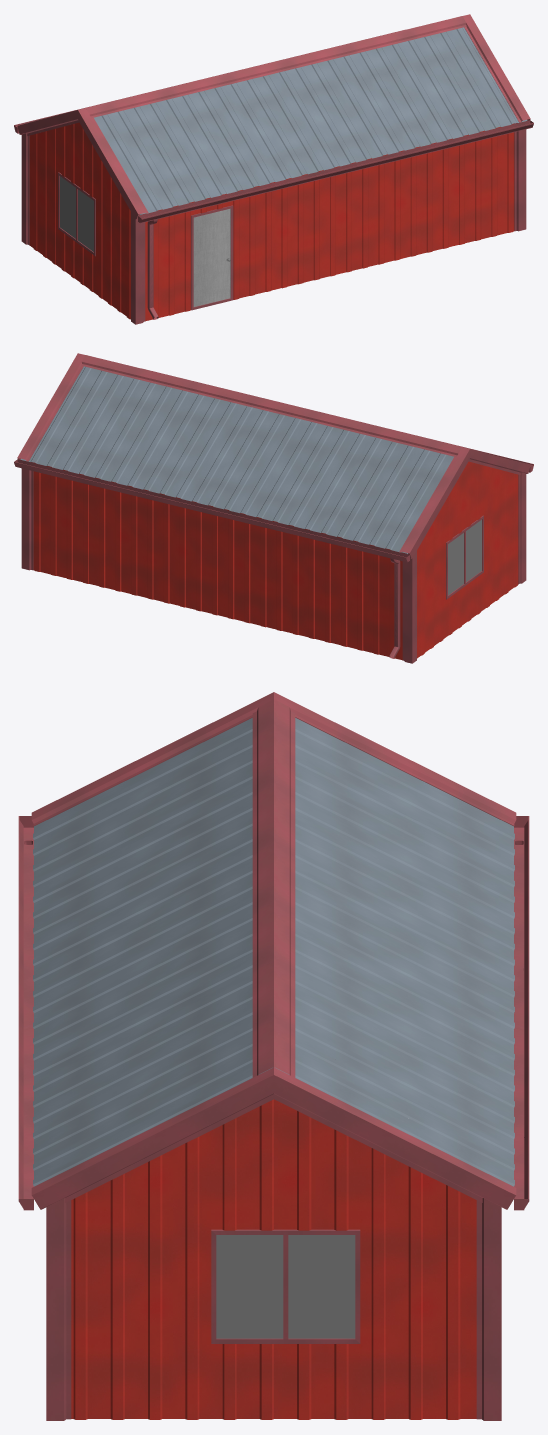
3 views of the same model, one above another, from view 1: azimuth 30°, elevation 25°; view 2: azimuth 150°, elevation 25°; view 3: azimuth 270°, elevation 25° (orthographic). The views are drawn at different scales.
Parts seen in each view (by area): view 1: wh-l5; view 2: wh-l5; view 3: wh-l5.
Boxes of the visible parts, x1,y1,x2,y2 form: wh-l5: [14, 14, 533, 324]; wh-l5: [14, 353, 533, 663]; wh-l5: [18, 692, 529, 1420].
Bounding box in the file's own units: 26 × 10.99 × 14.66.
Materials: 8 (4 with a texture image).
